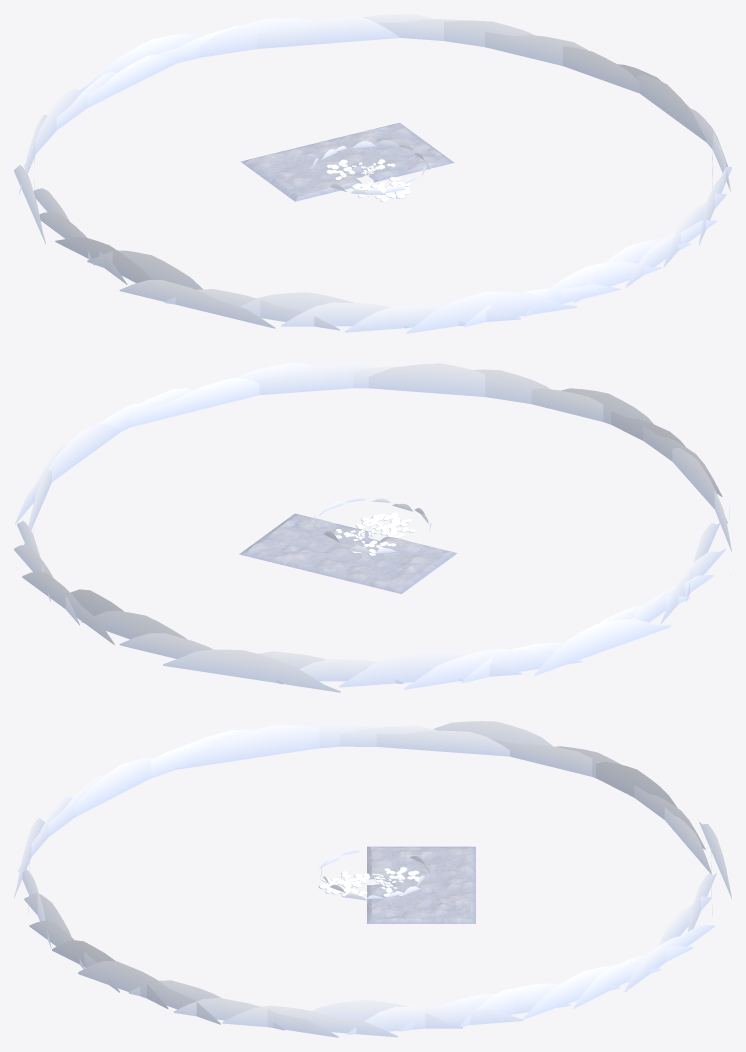
File: transit_clouds_merged.glb
3 renders of one model, top to bottom at view 1: azimuth 30°, elevation 25°; view 2: azimuth 150°, elevation 25°; view 3: azimuth 270°, elevation 25°, orthographic. The views are drawn at different scales.
Visible parts, largest first — view 1: clouds_horizon, clouds_floor, clouds_far, clouds_city_sea; view 2: clouds_horizon, clouds_floor, clouds_city_sea, clouds_far; view 3: clouds_horizon, clouds_floor, clouds_city_sea, clouds_far.
Boxes of the visible parts, box(x1,y1,x2,y2) form: clouds_horizon: box(14, 14, 731, 333); clouds_floor: box(240, 122, 454, 201); clouds_far: box(311, 140, 429, 194); clouds_city_sea: box(351, 177, 411, 201); clouds_horizon: box(14, 362, 731, 692); clouds_floor: box(239, 513, 457, 593); clouds_city_sea: box(355, 512, 416, 538); clouds_far: box(313, 496, 431, 553); clouds_horizon: box(14, 721, 731, 1037); clouds_floor: box(367, 846, 475, 923); clouds_city_sea: box(318, 871, 369, 897); clouds_far: box(319, 848, 430, 900).
Bounding box in the file's own units: 3261 × 151 × 3289.
